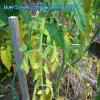Tomato leaf yellow virus: (62, 26, 72, 66), (41, 46, 52, 59), (29, 50, 37, 64), (46, 30, 52, 46), (32, 61, 40, 70)
